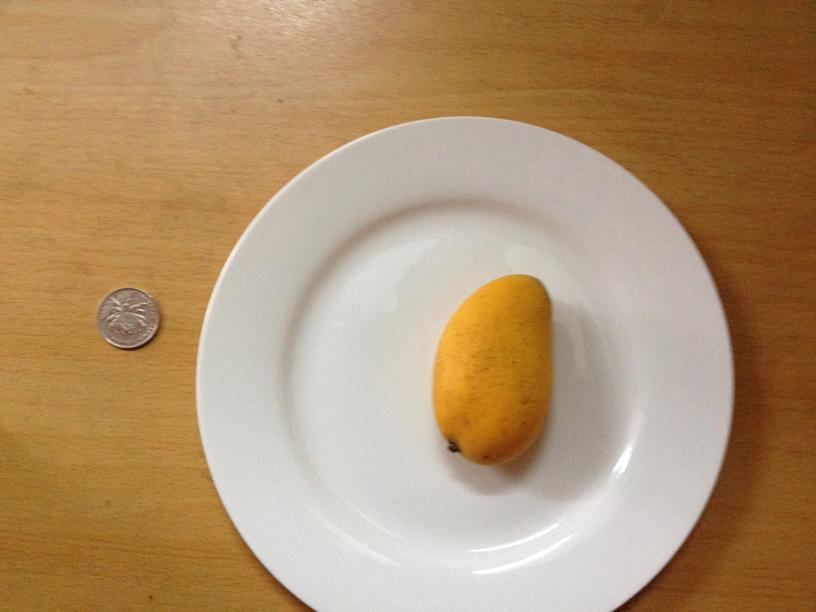coin: (96, 287, 160, 348)
mango: (435, 276, 552, 462)
